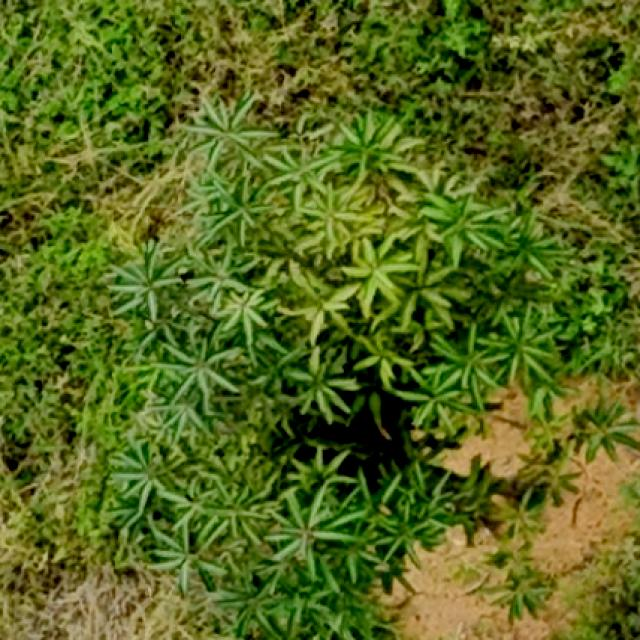mangoTree: (94, 87, 640, 640)
